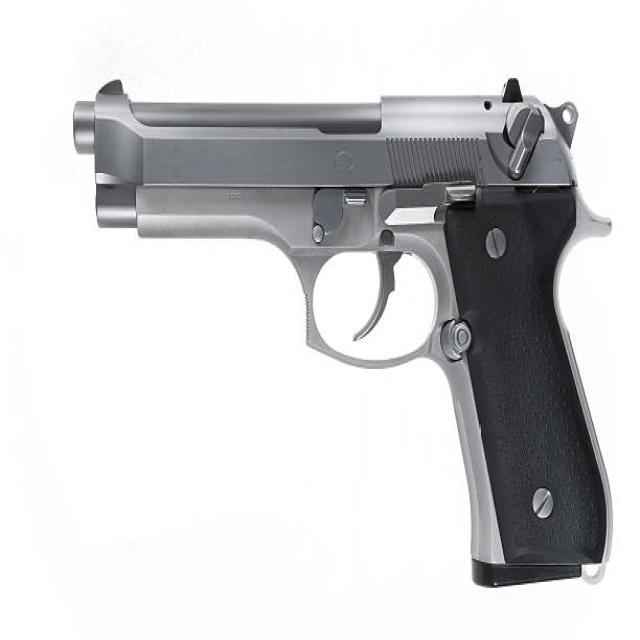pistol: (63, 75, 619, 609)
